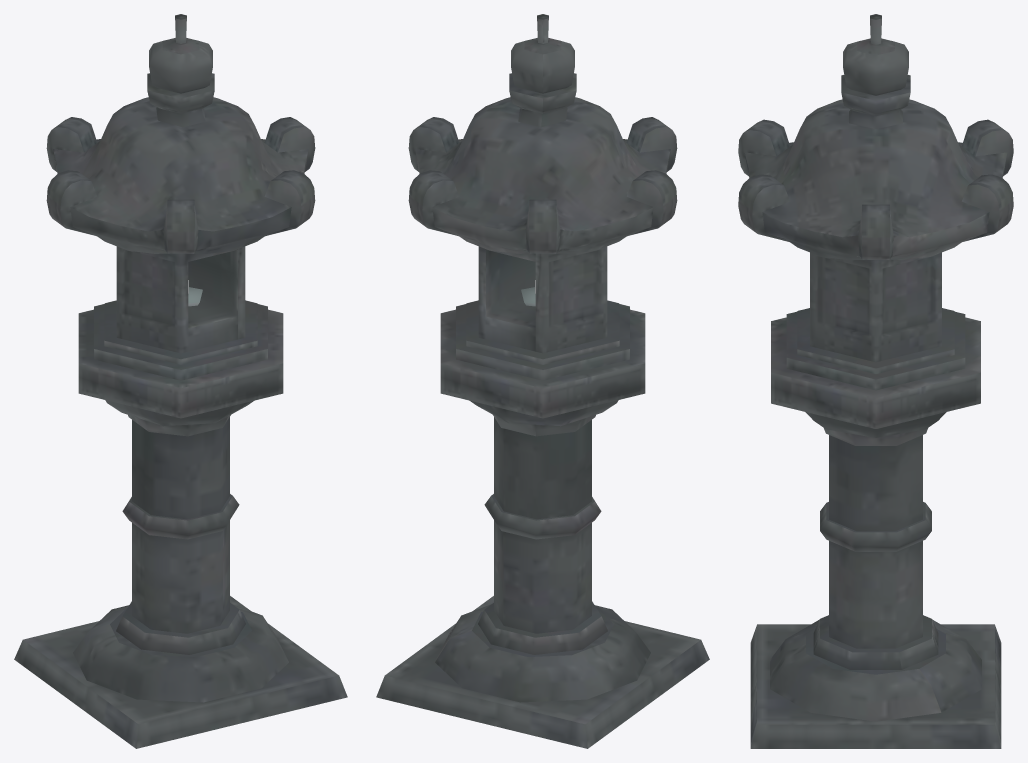
File: stone-lantern.glb
3 views of the same model, side by side, from view 1: azimuth 30°, elevation 25°; view 2: azimuth 150°, elevation 25°; view 3: azimuth 270°, elevation 25° (orthographic). The views are drawn at different scales.
Size of the model in its own units: 8.32 by 20.64 by 7.59.
Materials: 1 (1 with a texture image).
